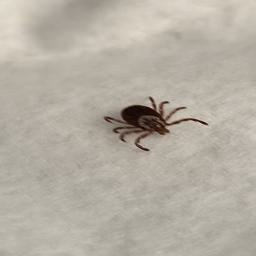Dermacentor variabilis: (103, 97, 209, 150)
